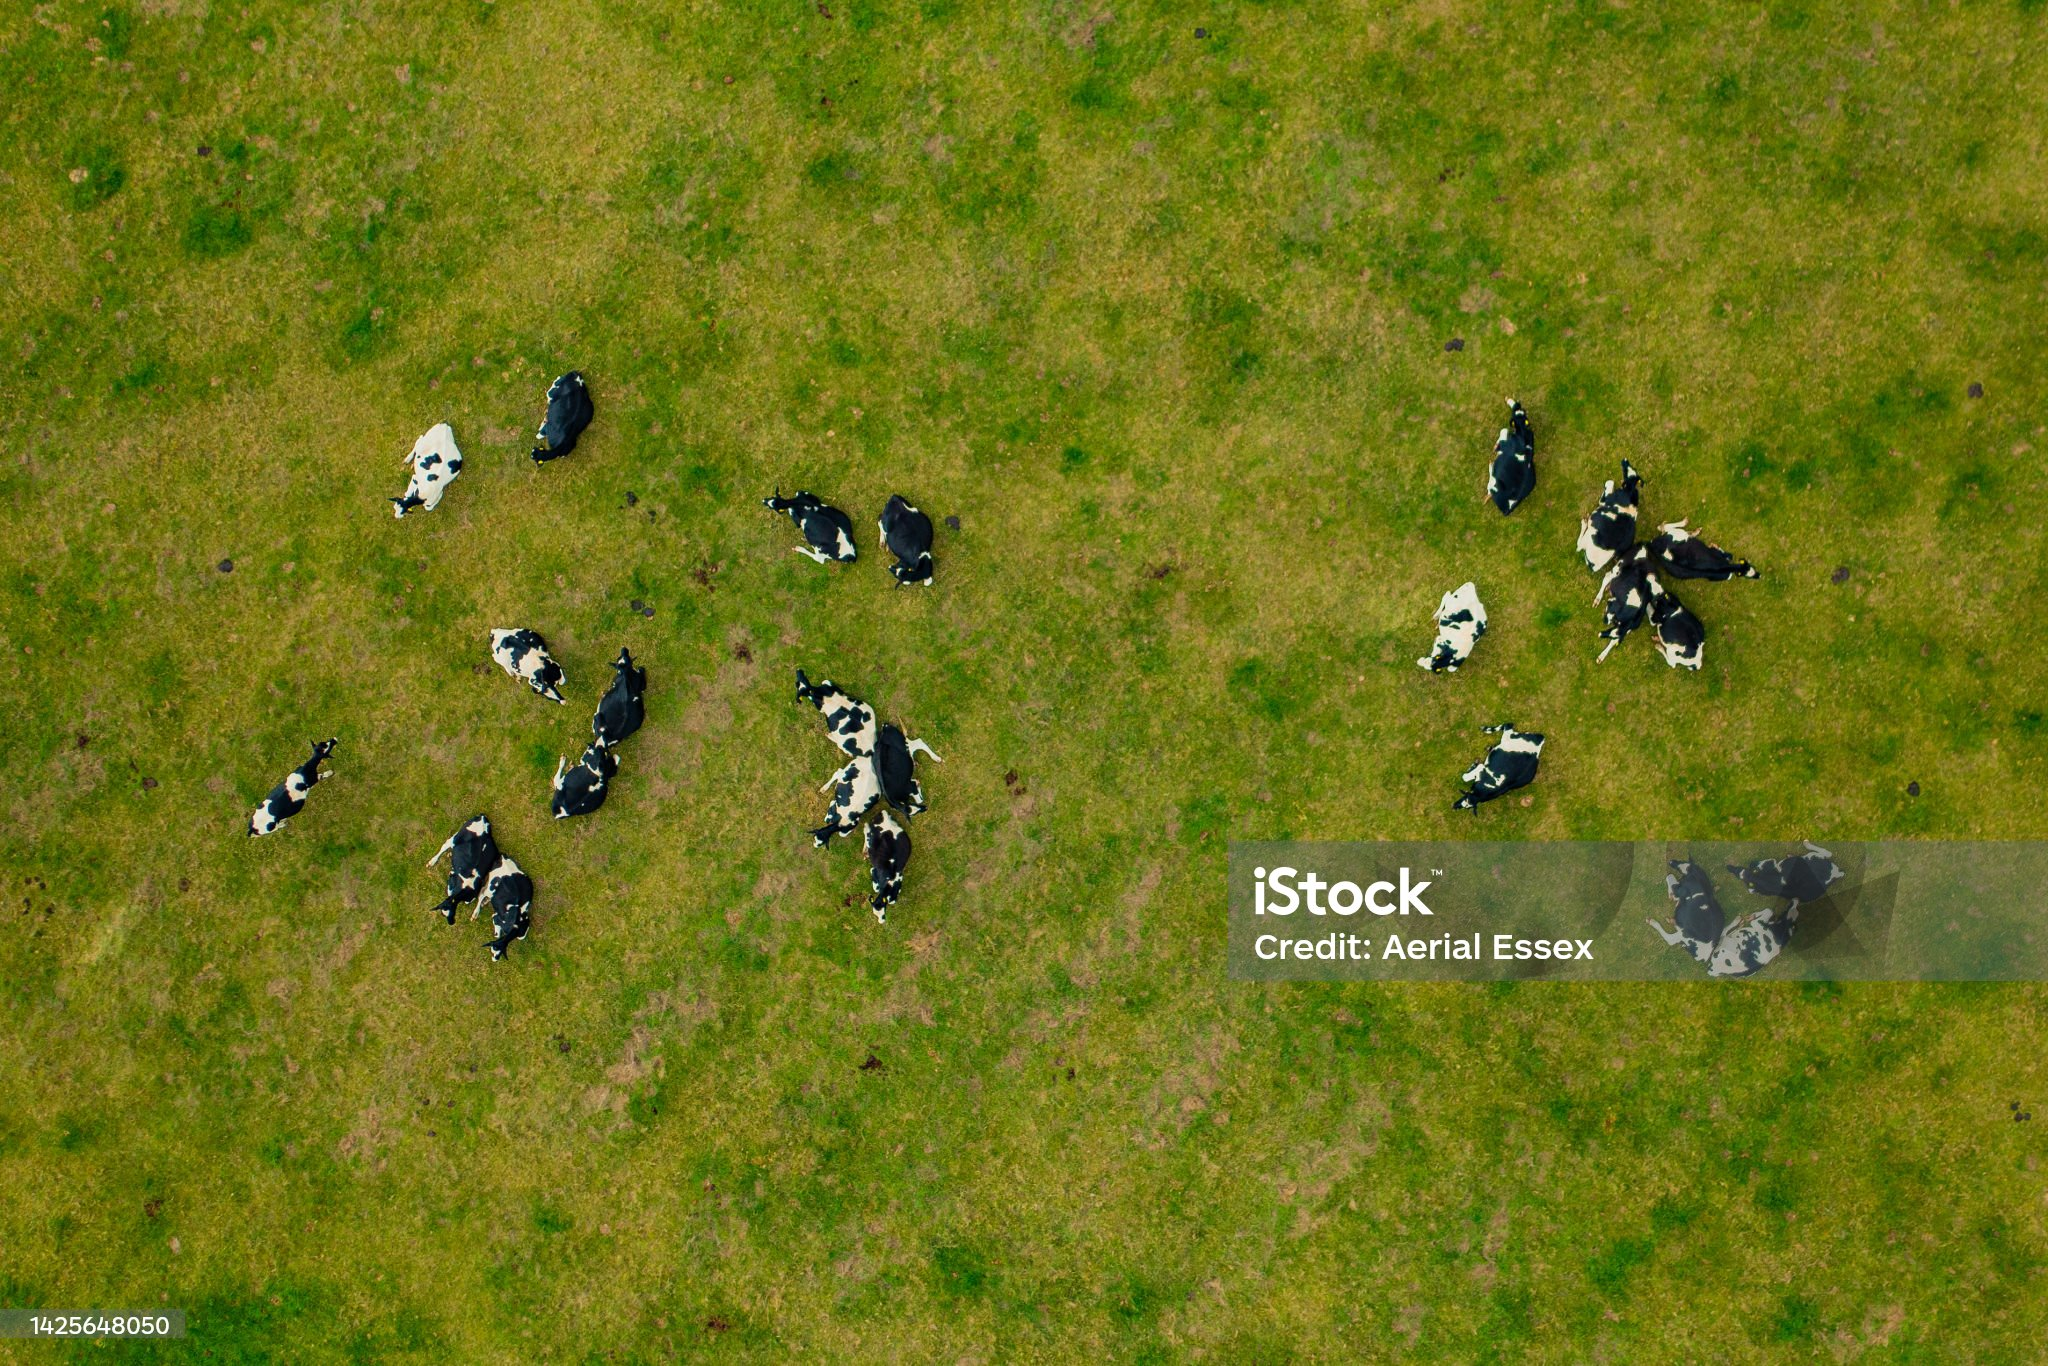cattle: (245, 736, 349, 839), (1568, 450, 1653, 573), (756, 476, 864, 570), (1475, 384, 1550, 520), (1448, 717, 1550, 816), (526, 361, 605, 482), (1714, 899, 1806, 1003), (1413, 578, 1506, 678), (869, 483, 952, 595), (1717, 835, 1854, 903), (386, 415, 469, 523), (421, 806, 498, 922), (587, 636, 661, 752), (1656, 509, 1758, 593), (477, 619, 568, 712), (1630, 569, 1710, 675), (1652, 858, 1728, 960), (475, 851, 539, 957), (550, 738, 628, 825), (1592, 566, 1649, 672)
